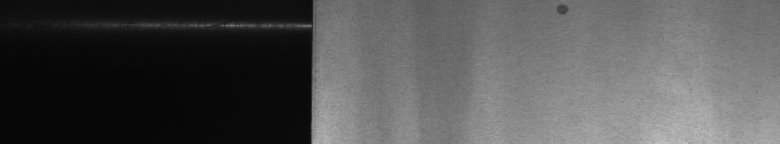fi: (552, 4, 572, 21)
